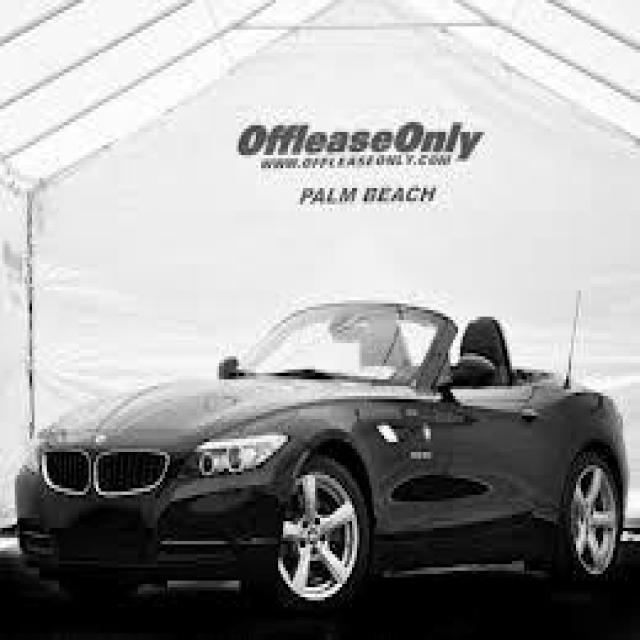car: (12, 297, 630, 614)
